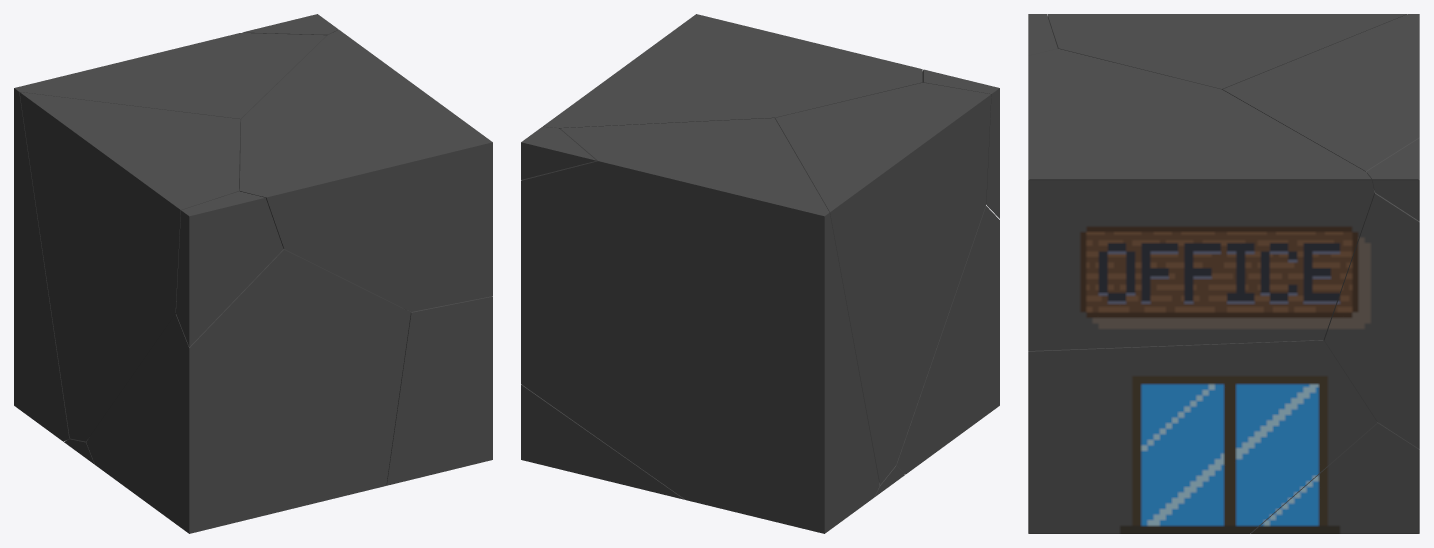
The model's file is GlassBuildingH128x128_Ground01_break.fbx.
3 renders of one model, left to right at view 1: azimuth 30°, elevation 25°; view 2: azimuth 150°, elevation 25°; view 3: azimuth 270°, elevation 25°, orthographic. The views are drawn at different scales.
Parts seen in each view (by area): view 1: Ground01Break07, Ground01Break03, Ground01Break04, Ground01Break01, Ground01Break05, Ground01Break08, Ground01Break02; view 2: Ground01Break01, Ground01Break04, Ground01Break03, Ground01Break07, Ground01Break06, Ground01Break02, Ground01Break08; view 3: Ground01Break03, Ground01Break05, Ground01Break01, Ground01Break04, Ground01Break06, Ground01Break02, Ground01Break08.
Part boxes in pixels (left/top/right/bottom): Ground01Break07: left=86, top=249, right=410, bottom=533; Ground01Break03: left=239, top=30, right=492, bottom=311; Ground01Break04: left=19, top=92, right=240, bottom=441; Ground01Break01: left=14, top=33, right=326, bottom=441; Ground01Break05: left=386, top=296, right=492, bottom=485; Ground01Break08: left=176, top=191, right=283, bottom=346; Ground01Break02: left=242, top=14, right=338, bottom=35; Ground01Break01: left=521, top=118, right=879, bottom=533; Ground01Break04: left=775, top=82, right=991, bottom=484; Ground01Break03: left=542, top=14, right=922, bottom=128; Ground01Break07: left=896, top=206, right=999, bottom=474; Ground01Break06: left=521, top=384, right=904, bottom=499; Ground01Break02: left=521, top=127, right=596, bottom=179; Ground01Break08: left=922, top=69, right=999, bottom=218; Ground01Break03: left=1028, top=48, right=1374, bottom=350; Ground01Break05: left=1028, top=340, right=1377, bottom=533; Ground01Break01: left=1222, top=14, right=1419, bottom=448; Ground01Break04: left=1047, top=14, right=1406, bottom=89; Ground01Break06: left=1250, top=422, right=1419, bottom=533; Ground01Break02: left=1366, top=138, right=1419, bottom=220; Ground01Break08: left=1028, top=14, right=1057, bottom=55.
Size of the model in its own units: 100 by 100 by 100.
Materials: 1 (1 with a texture image).
